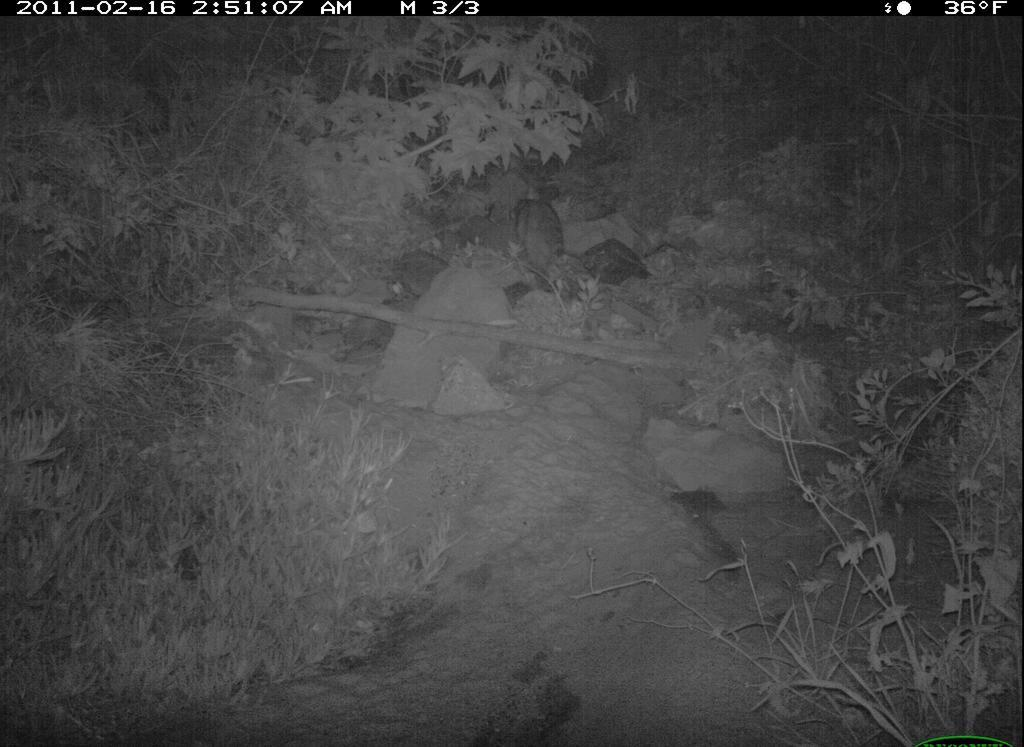raccoon: (510, 184, 596, 299)
